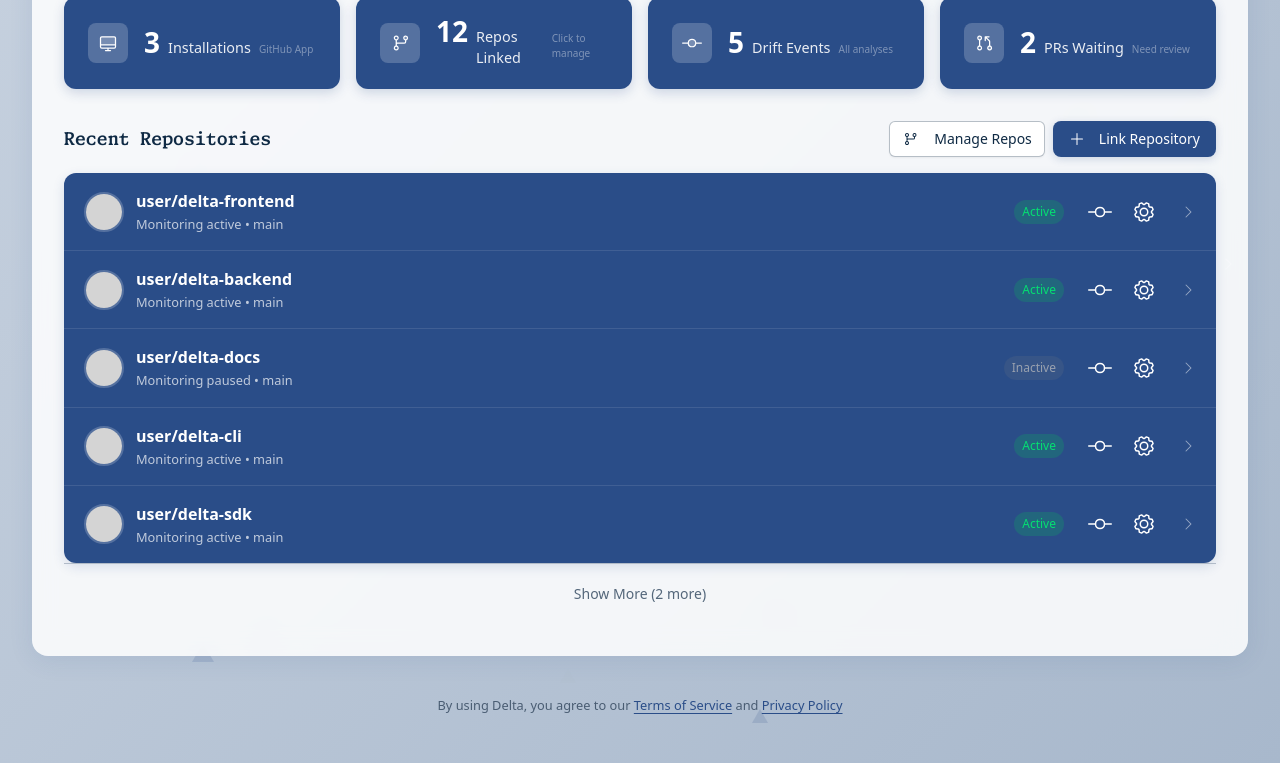
Test case: Dashboard - Show More / Show Less › toggles between showing all repos and limited repos
(page scrolled)
Expected: the text "user/delta-infra" is not shown
Expected: the text "user/delta-design" is not shown
# Click "Show More"
Click the button "Show More (2 more)": (640,594) [76,576,1204,612]
(page scrolled)
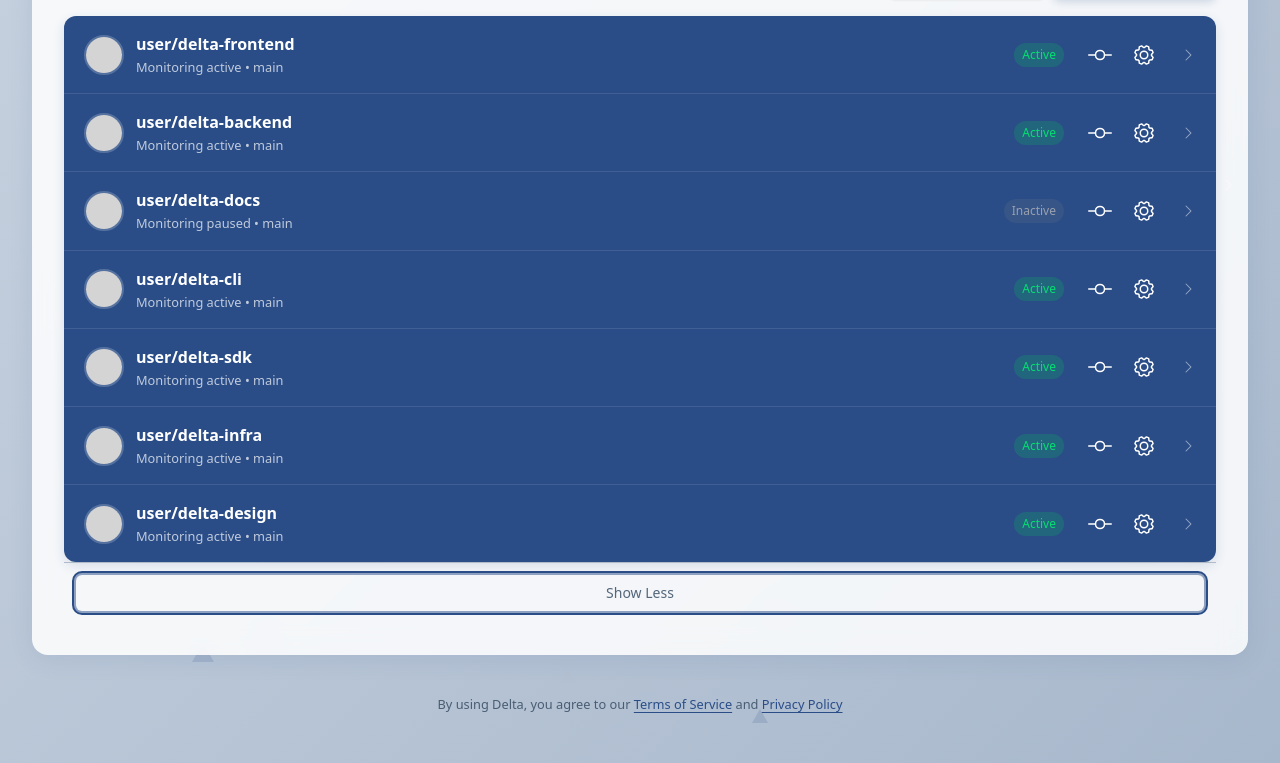
Now the link "user/delta-infra" is shown, box [136,424,262,446]
Now the link "user/delta-design" is shown, box [136,502,277,524]
Now the button "Show Less" is shown
# Click "Show Less"
Click the button "Show Less": (640,593) [76,575,1204,611]
(page scrolled)
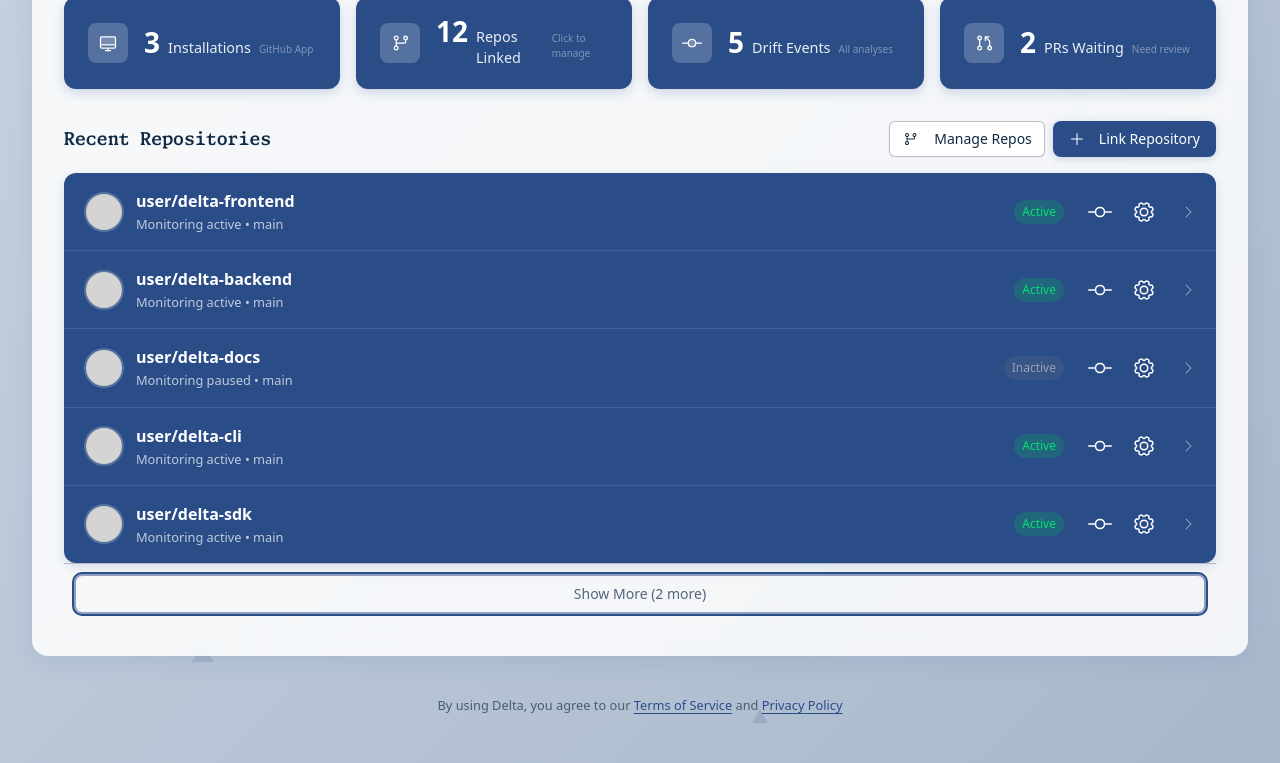
Now the link "user/delta-infra" is gone
Now the link "user/delta-design" is gone
